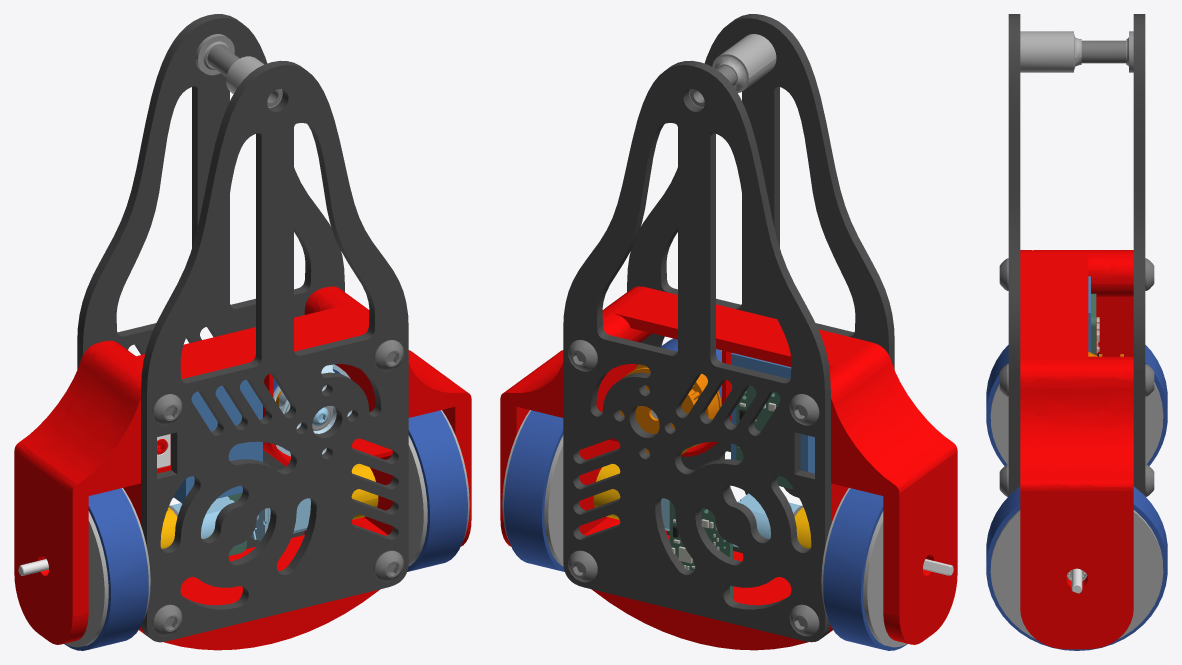
The model's file is horizon_no_weapon-opt.glb.
3 renders of one model, left to right at view 1: azimuth 30°, elevation 25°; view 2: azimuth 150°, elevation 25°; view 3: azimuth 270°, elevation 25°, orthographic. The views are drawn at different scales.
Visible parts, largest first — view 1: Top Plate (×2), Part 1 (×4), Part 2 (×2), 92360A240_Thread-Locking Button Head Hex Drive Screws (×4), Battery, Repeat Drive Brushed (×2), Spacer Top, Spacer Bottom, Stator Base; view 2: Top Plate (×2), Part 1 (×3), Part 2 (×2), 92360A240_Thread-Locking Button Head Hex Drive Screws (×4), Spacer Bottom, malenki-nano-integrated.step<1> (×2), Battery, 26t pulley, Repeat Drive Brushed; view 3: Part 1 (×4), Top Plate (×2), Part 2 (×2), Spacer Bottom, malenki-nano-integrated.step<1>, Spacer Top.
Boxes of the visible parts, <box> form: Top Plate (×2): <box>77,14,408,642</box>; Part 1 (×4): <box>14,45,471,650</box>; Part 2 (×2): <box>64,410,467,650</box>; 92360A240_Thread-Locking Button Head Hex Drive Screws (×4): <box>152,340,403,636</box>; Battery: <box>173,379,262,503</box>; Repeat Drive Brushed (×2): <box>170,496,310,547</box>; Spacer Top: <box>195,34,234,75</box>; Spacer Bottom: <box>226,56,282,107</box>; Stator Base: <box>273,364,352,456</box>; Top Plate (×2): <box>563,14,894,642</box>; Part 1 (×3): <box>500,286,957,650</box>; Part 2 (×2): <box>504,410,907,650</box>; 92360A240_Thread-Locking Button Head Hex Drive Screws (×4): <box>568,340,819,636</box>; Spacer Bottom: <box>712,34,776,92</box>; malenki-nano-integrated.step<1> (×2): <box>669,385,793,598</box>; Battery: <box>731,353,814,473</box>; 26t pulley: <box>619,365,710,454</box>; Repeat Drive Brushed: <box>733,493,801,547</box>; Part 1 (×4): <box>990,40,1163,649</box>; Top Plate (×2): <box>1008,14,1145,495</box>; Part 2 (×2): <box>986,345,1167,650</box>; Spacer Bottom: <box>1020,31,1081,72</box>; malenki-nano-integrated.step<1>: <box>1091,293,1096,354</box>; Spacer Top: <box>1126,31,1133,72</box>.
Size of the model in its own units: 140 by 175 by 50.68.
